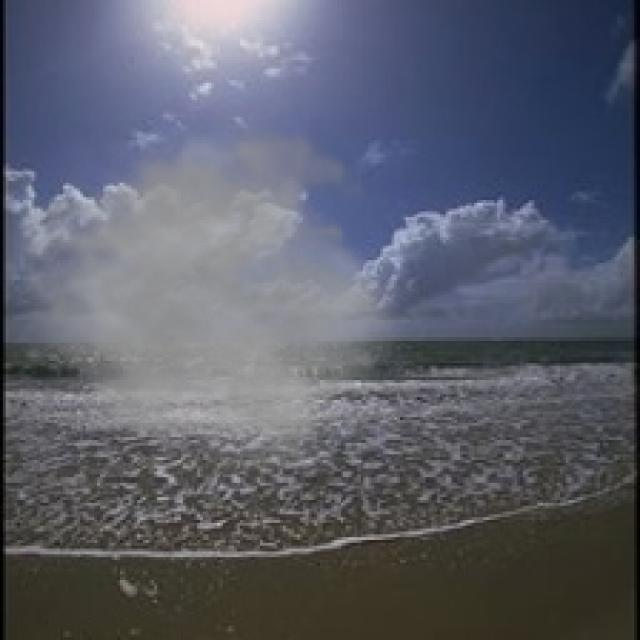Smoke: (9, 97, 408, 466)
